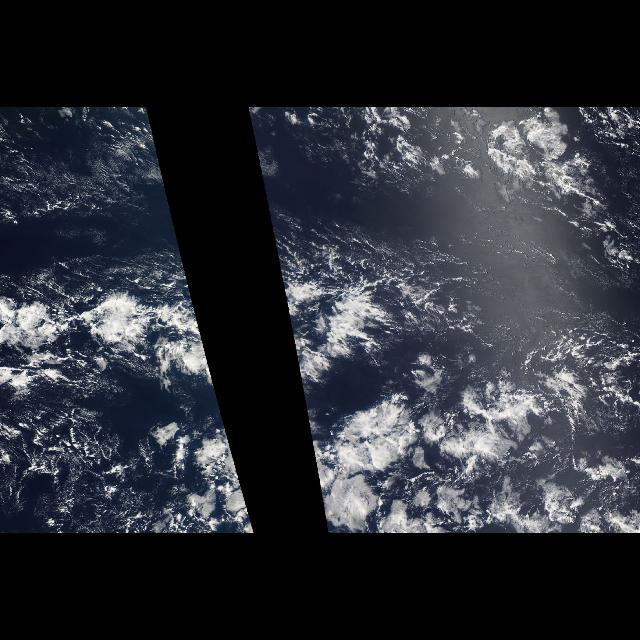Fish: (268, 221, 498, 405), (0, 221, 222, 405)
Flower: (299, 372, 543, 532), (154, 381, 256, 533)
